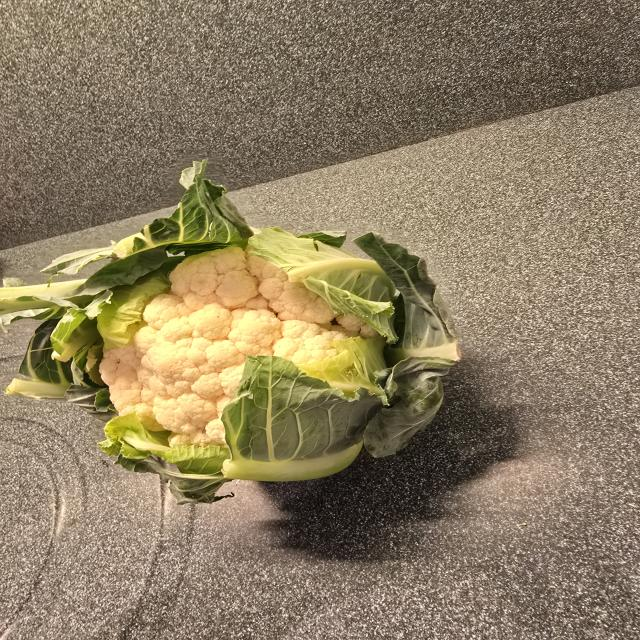Cauliflower: (20, 189, 460, 499)
